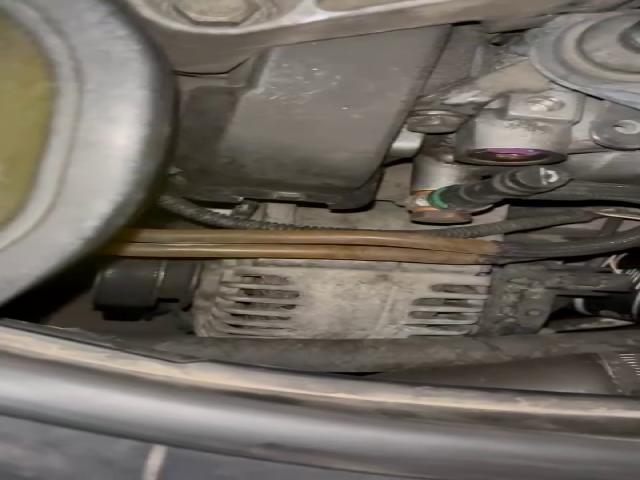alternator: (192, 259, 489, 338)
high_pressure_pump: (428, 59, 640, 165)
